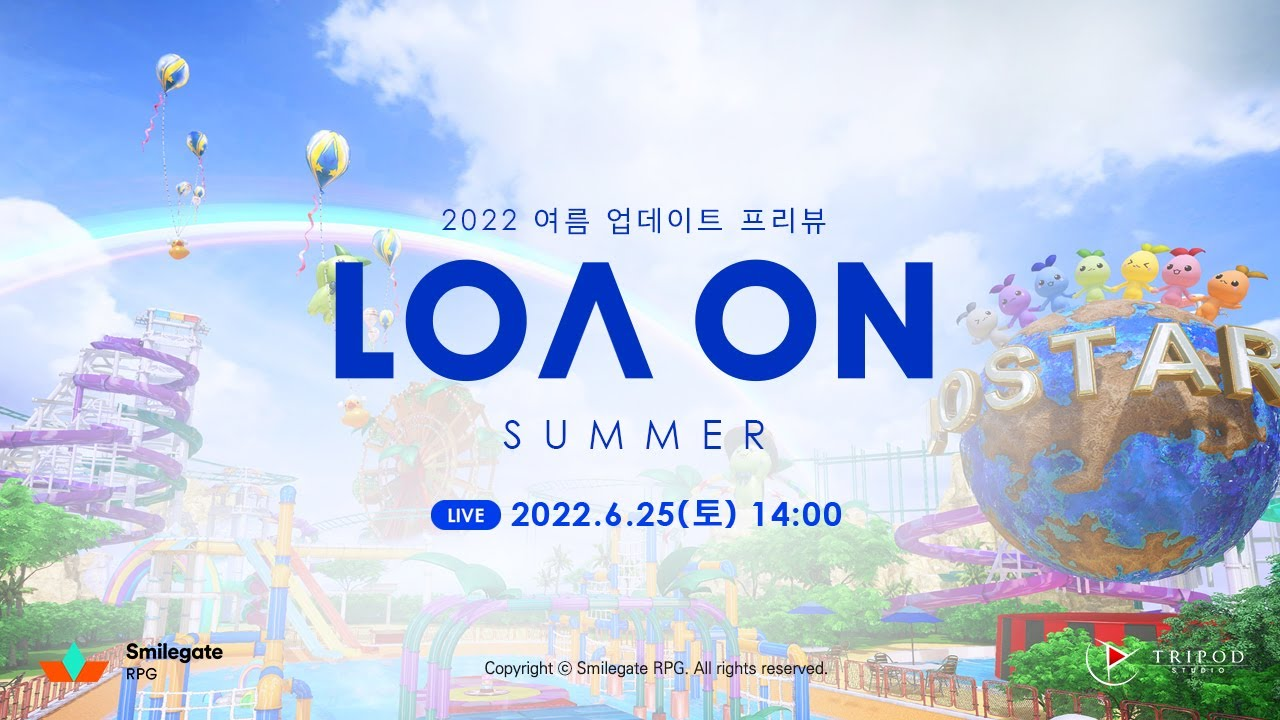LOA ON: (330, 257, 937, 381)
SUMMER: (500, 416, 766, 451)
Smilegate: (126, 640, 223, 664)
업데이트: (606, 206, 720, 234)
여름: (534, 207, 589, 235)
프리뷰: (740, 207, 826, 235)
